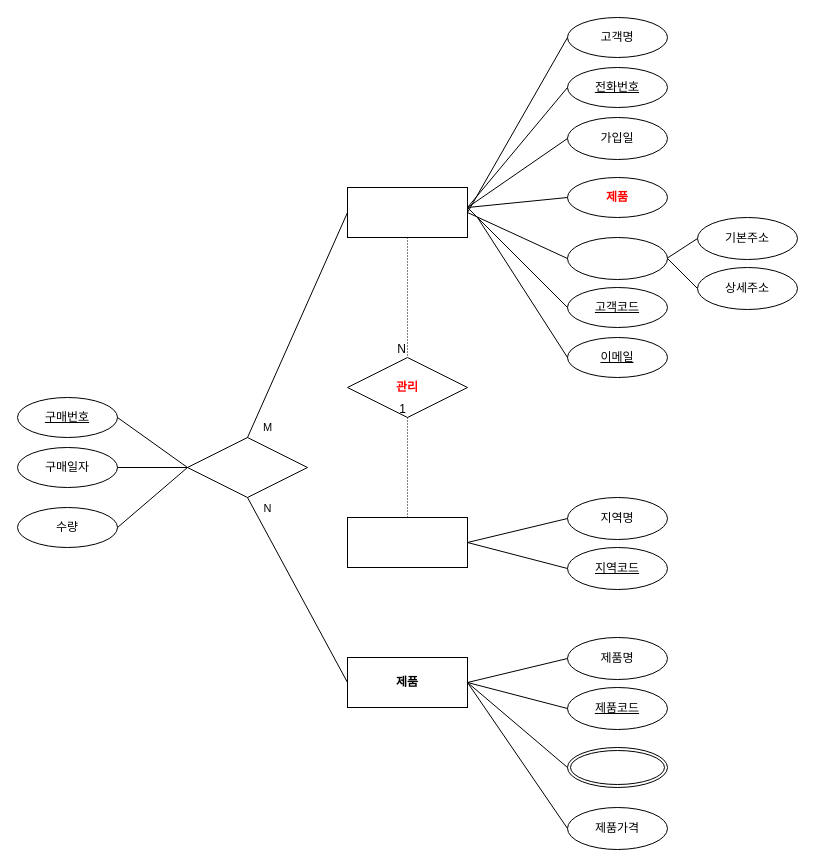
The diagram is 815 pixels wide and 867 high, and some of its shapes have lost their labels. Here are the shapes that lost their labels. From the top down, the centre of each, then its label:
At (x=407, y=212): "고객".
At (x=617, y=258): "주소".
At (x=247, y=467): "구매".
At (x=407, y=542): "지역".
At (x=617, y=767): "제품색상".
